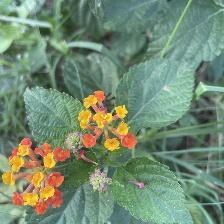common lanthana: (77, 90, 139, 156)
